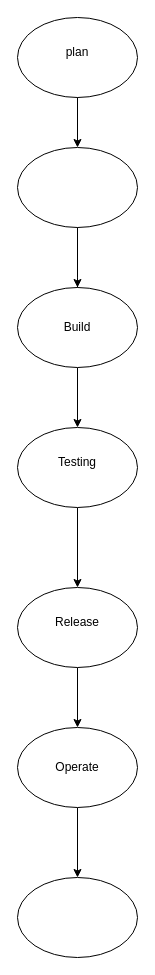
Some shapes in this 155 by 975 pixel diagram are drawn without their labels. The box of each missing label's shape, as (x1, y1, x2, y2) in pixels:
Develop: (16, 146, 138, 228)
Monitor: (16, 876, 138, 958)
